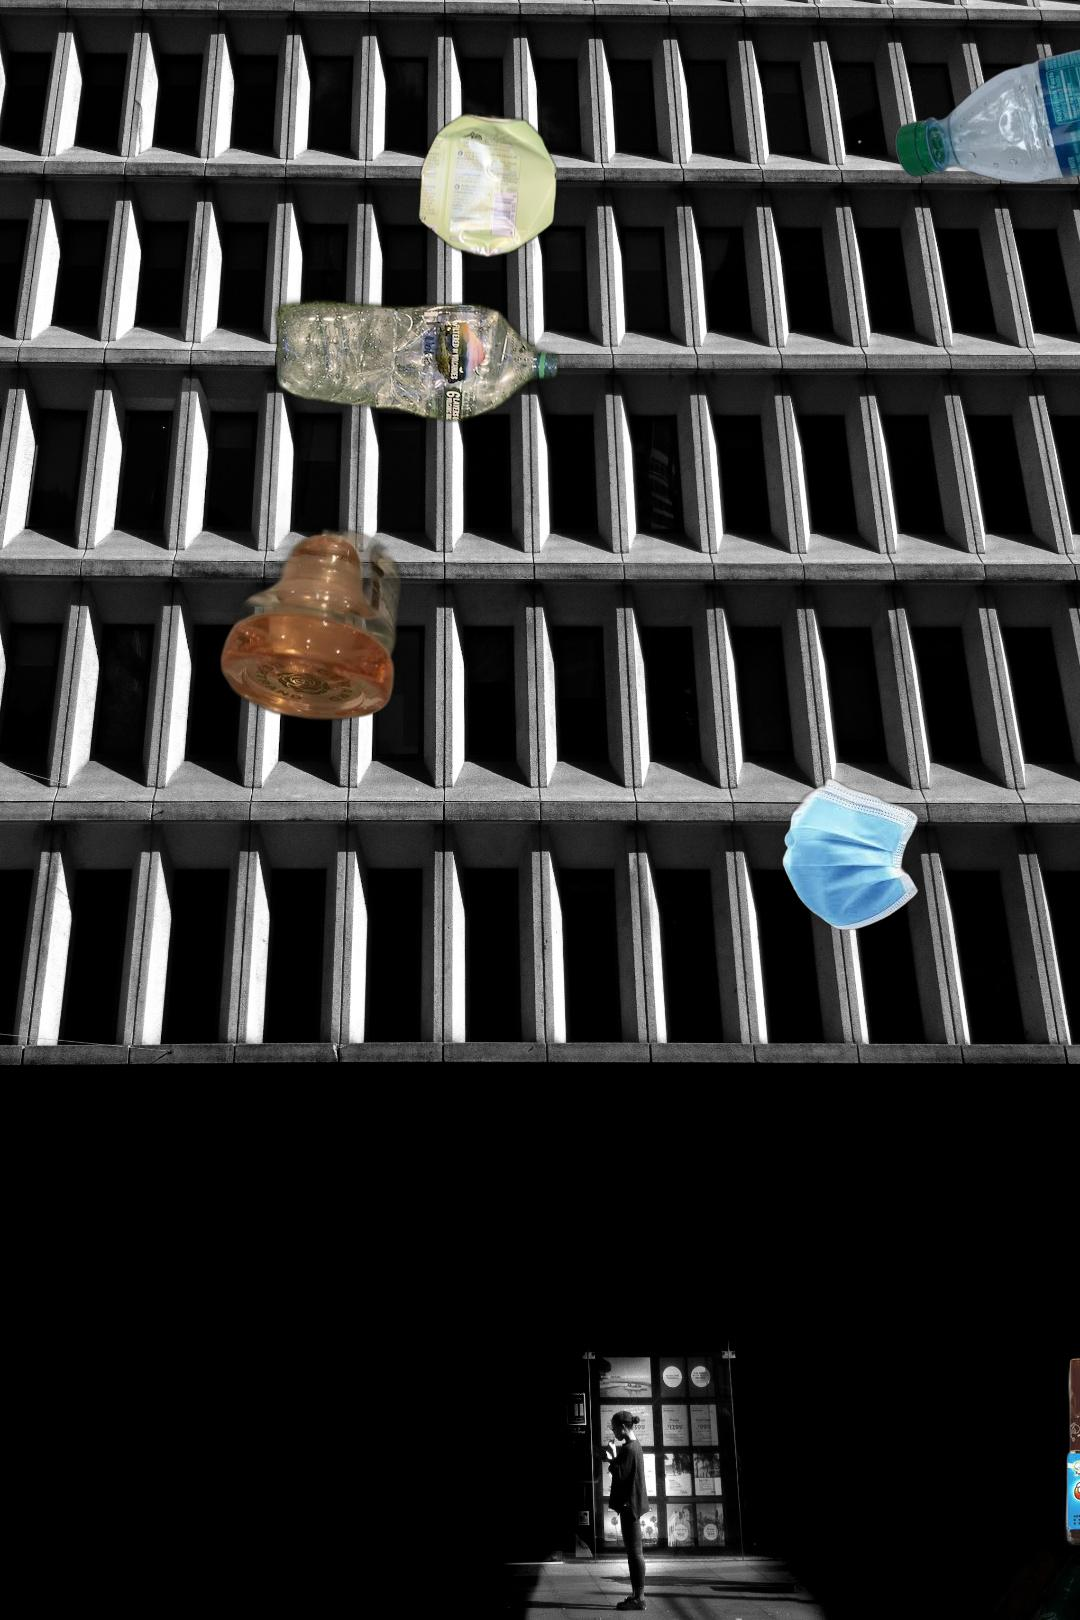glass: (216, 419, 407, 724)
metal-cans: (415, 107, 560, 264)
penholder: (982, 1342, 1080, 1620)
plastic-bottles: (271, 294, 687, 755), (891, 22, 1080, 187)
trash: (780, 776, 969, 933)
